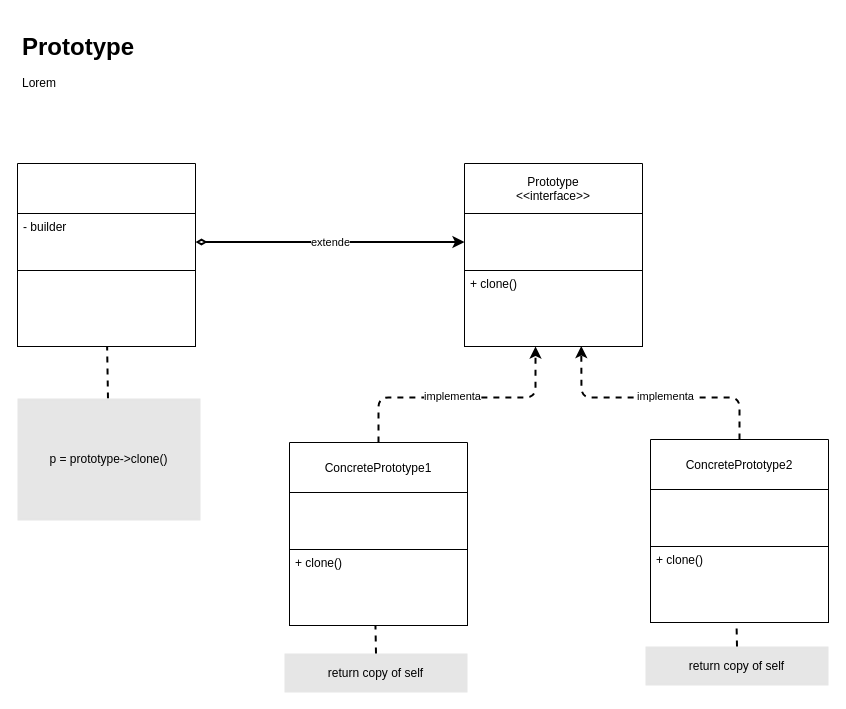
The diagram is 846 pixels wide and 709 high, and some of its shapes have lost their labels. The box of each missing label's shape, as (x1, y1, x2, y2) in pixels:
+ anyOperation(): (16, 270, 196, 346)
Client: (16, 162, 196, 346)
